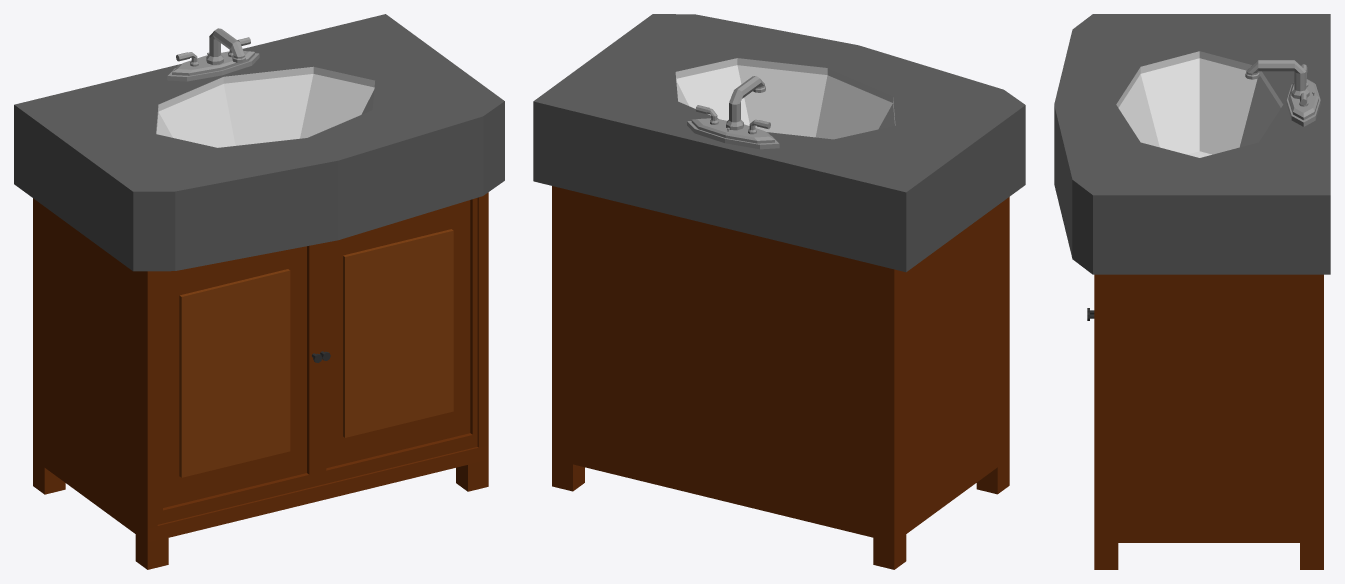
File: Vanity.fbx
The picture shows the model from 3 angles, left to right: view 1: azimuth 30°, elevation 25°; view 2: azimuth 150°, elevation 25°; view 3: azimuth 270°, elevation 25°; orthographic projection.
Visible parts, largest first — view 1: Vanity; view 2: Vanity; view 3: Vanity.
Boxes of the visible parts, x1,y1,x2,y2 form: Vanity: (14,14,504,569); Vanity: (533,14,1025,569); Vanity: (1054,14,1330,569).
Bounding box in the file's own units: 10.65 × 11.68 × 6.87.
